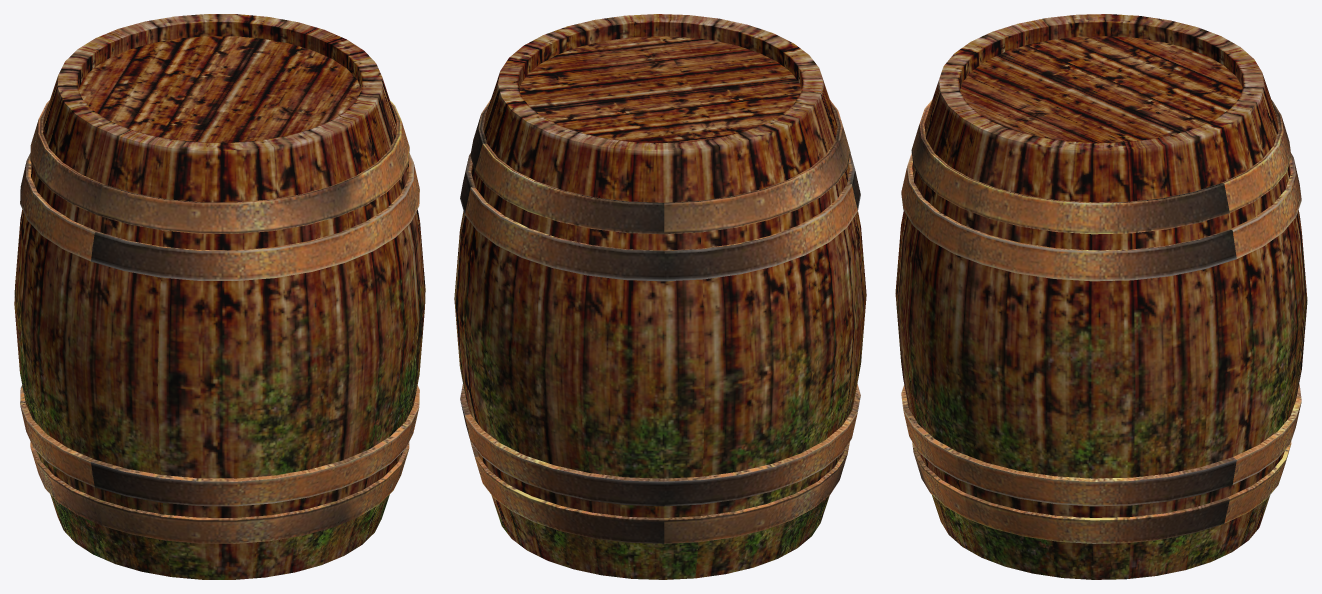
Rendered from wooden_barrel_1.dae.
3 renders of one model, left to right at view 1: azimuth 30°, elevation 25°; view 2: azimuth 150°, elevation 25°; view 3: azimuth 270°, elevation 25°, orthographic.
Visible parts, largest first — view 1: Wooden_barrel_02; view 2: Wooden_barrel_02; view 3: Wooden_barrel_02.
Boxes of the visible parts, bbox=[...] form: Wooden_barrel_02: bbox=[14, 14, 425, 579]; Wooden_barrel_02: bbox=[454, 14, 866, 579]; Wooden_barrel_02: bbox=[895, 14, 1307, 579].
Size of the model in its own units: 82.24 by 94.42 by 82.24.
1 material, 1 textured.
